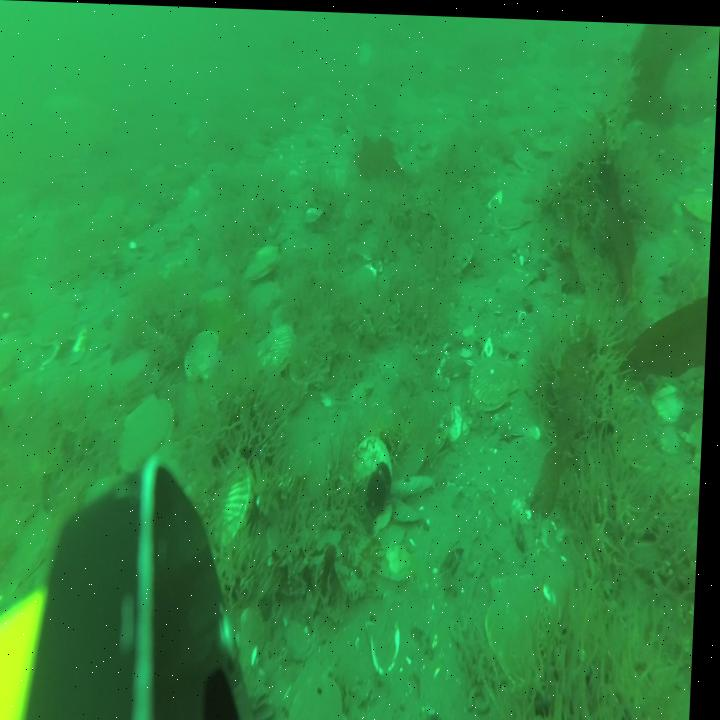scallop: (489, 572, 558, 674), (213, 451, 259, 550), (122, 395, 182, 469), (475, 348, 522, 413), (355, 428, 398, 487), (38, 296, 79, 350), (263, 321, 303, 376), (112, 345, 151, 397), (248, 278, 285, 330), (383, 532, 416, 589), (188, 326, 224, 378), (497, 191, 538, 232), (247, 239, 281, 283), (656, 378, 689, 423)
